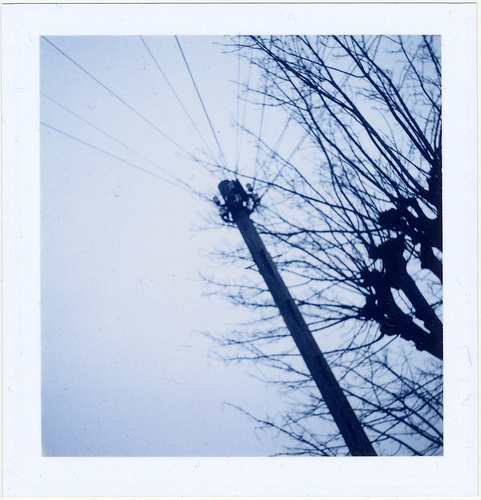pole: (202, 174, 382, 451)
